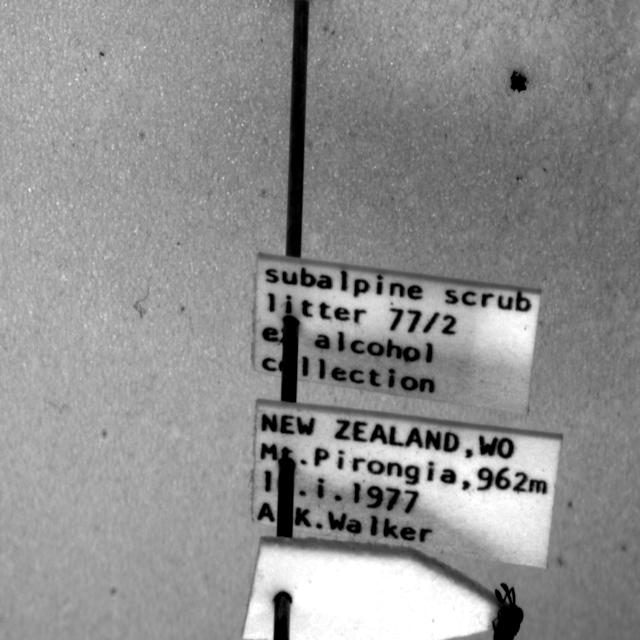typed_label: (252, 399, 561, 568), (252, 253, 540, 412)
